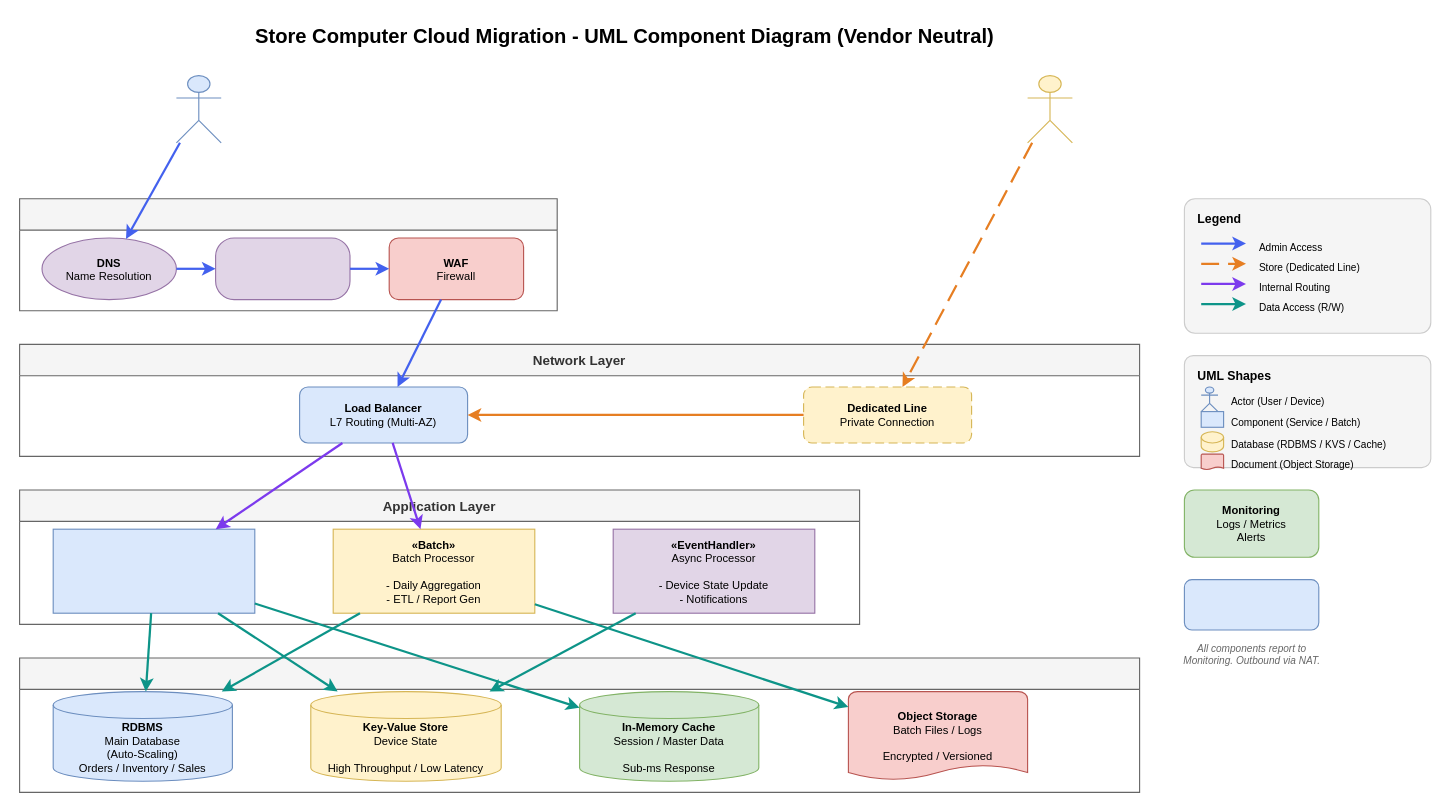
Some shapes in this 1450 by 812 pixel diagram are drawn without their labels. Here are the shapes that lost their labels. From the top down, the box of each, then its label:
(175, 74, 221, 143): Admin Users
(1026, 74, 1072, 143): Store Devices (5,000+ stores)
(214, 237, 350, 300): CDN Edge Cache
(18, 198, 557, 311): Edge / Security Layer
(52, 528, 255, 613): «Service» Store API Server - Order Processing - Inventory Mgmt - Sales Reporting
(1183, 578, 1319, 630): NAT Outbound
(18, 657, 1140, 792): Data Layer
